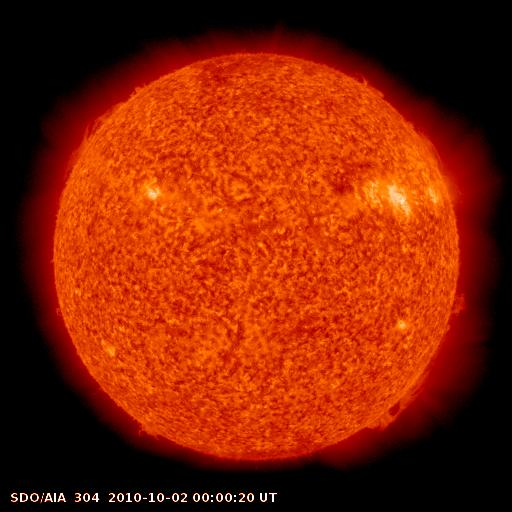prominence: (57, 93, 130, 191), (360, 362, 434, 442), (433, 281, 475, 346), (346, 62, 395, 109), (413, 122, 452, 175)
